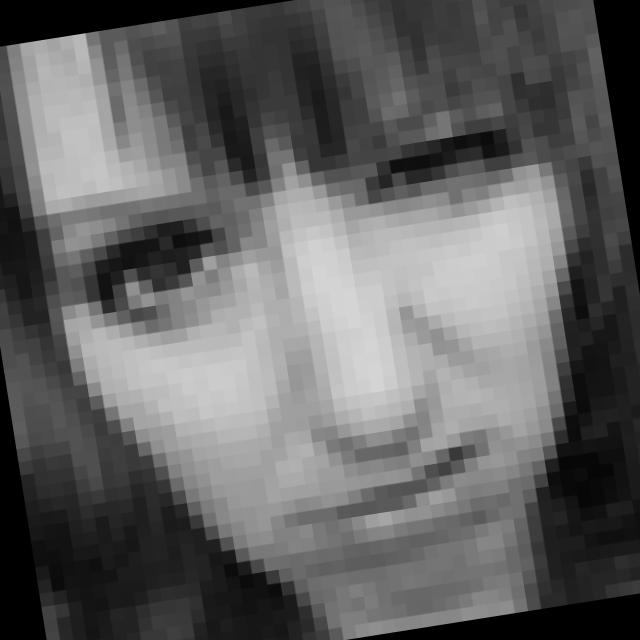disgust: (28, 84, 591, 598)
